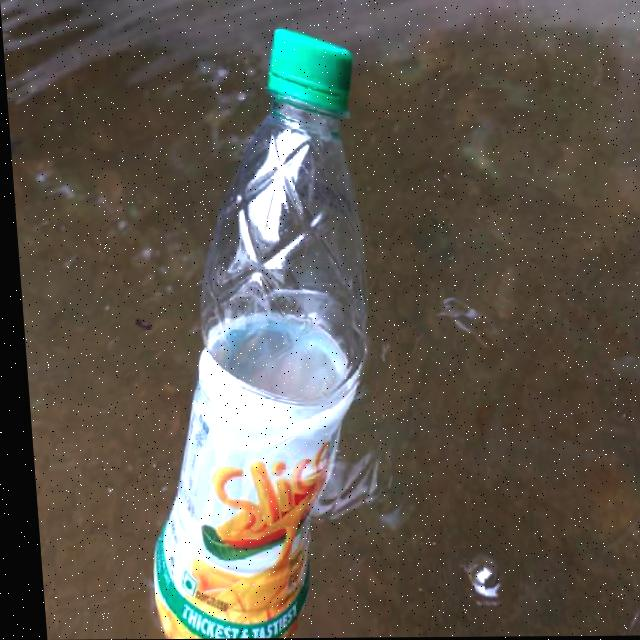waterbottle: (106, 12, 416, 639)
